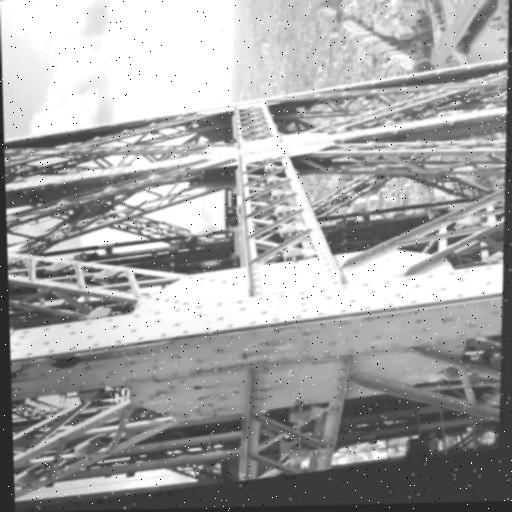balloon: (195, 225, 222, 242)
